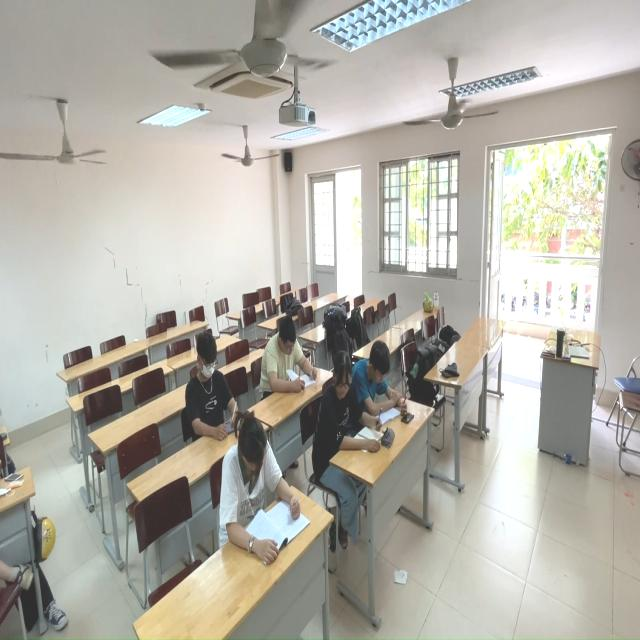read: (216, 408, 309, 557), (315, 354, 386, 460), (184, 334, 243, 437), (354, 336, 415, 422), (259, 312, 321, 396)
